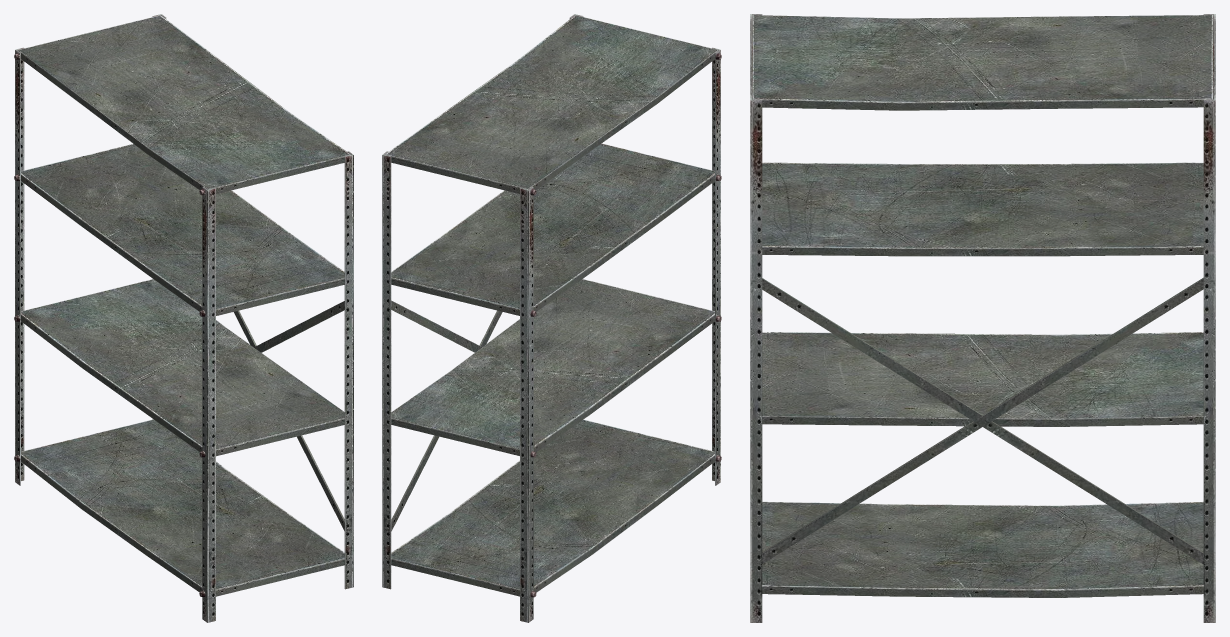
The model's file is Shelves_metal.glb.
3 views of the same model, side by side, from view 1: azimuth 30°, elevation 25°; view 2: azimuth 150°, elevation 25°; view 3: azimuth 270°, elevation 25° (orthographic). The views are drawn at different scales.
Parts seen in each view (by area): view 1: 0_Shelves_metal; view 2: 0_Shelves_metal; view 3: 0_Shelves_metal.
Part boxes in pixels (left/top/right/bottom): 0_Shelves_metal: left=14, top=14, right=353, bottom=622; 0_Shelves_metal: left=382, top=14, right=721, bottom=622; 0_Shelves_metal: left=750, top=14, right=1215, bottom=622.
Bounding box in the file's own units: 0.7283 × 2.01 × 1.62.
1 material, 1 textured.
